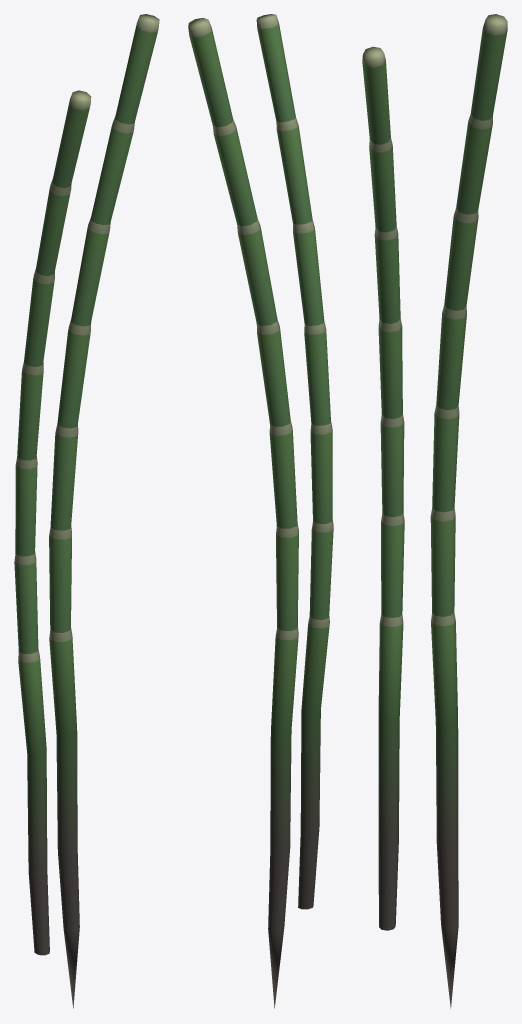
3 renders of one model, left to right at view 1: azimuth 30°, elevation 25°; view 2: azimuth 210°, elevation 25°; view 3: azimuth 330°, elevation 25°, orthographic. The views are drawn at different scales.
Visible parts, largest first — view 1: base.585; view 2: base.585; view 3: base.585.
Part boxes in pixels (box(x1,y1,x2,y2)): base.585: box(14, 14, 159, 1008); base.585: box(188, 14, 333, 1008); base.585: box(362, 14, 507, 1008).
Bounding box in the file's own units: 0.0694 × 0.5 × 0.0505.
